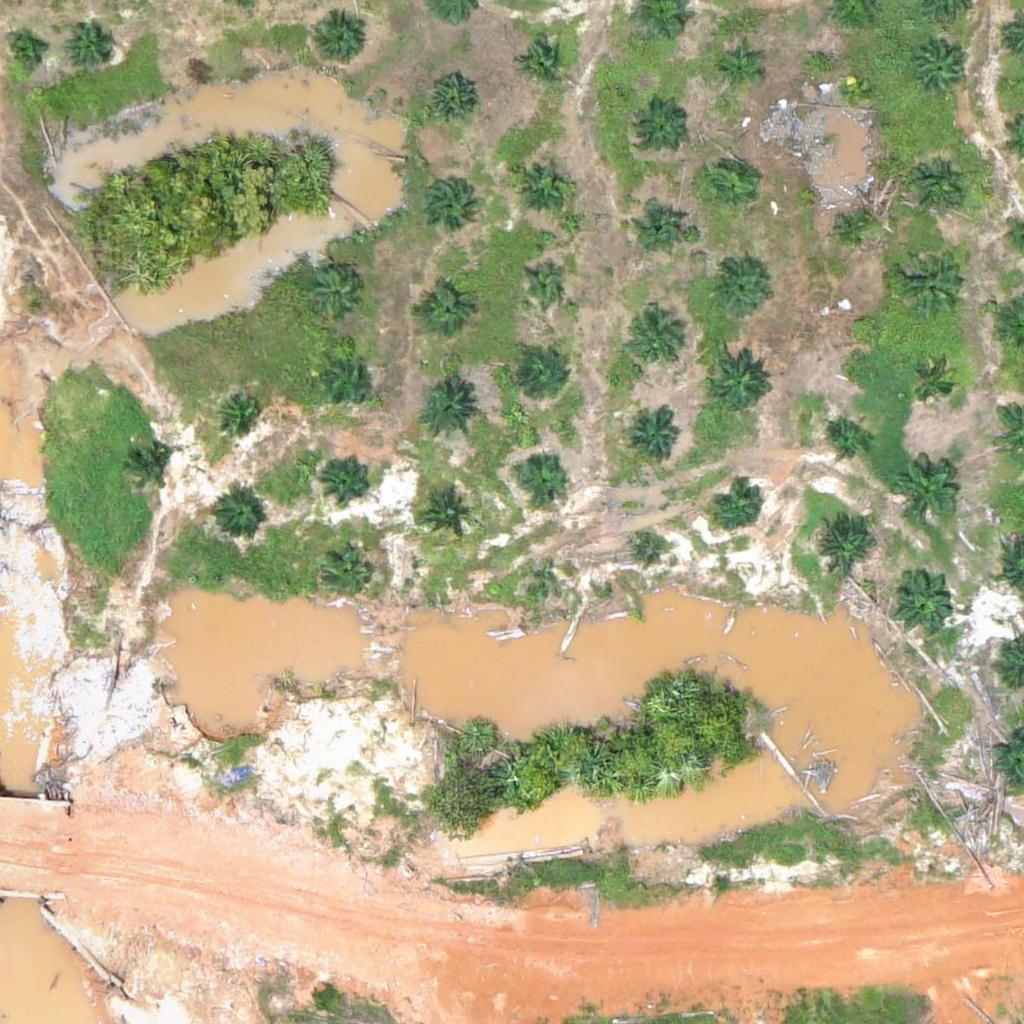Kelapa_Sawit: (895, 238, 970, 314), (892, 458, 955, 521), (417, 381, 480, 444), (888, 567, 951, 630), (708, 347, 770, 410), (626, 310, 688, 373), (906, 155, 968, 218), (705, 257, 767, 320), (308, 10, 370, 73), (512, 152, 574, 215), (811, 512, 873, 575), (911, 42, 973, 104), (515, 448, 565, 499), (519, 349, 569, 400), (417, 286, 467, 337), (311, 271, 361, 322), (322, 354, 372, 405), (322, 452, 372, 503), (422, 491, 472, 542), (425, 73, 475, 124), (516, 37, 566, 88), (630, 414, 680, 464), (711, 481, 761, 531), (637, 198, 687, 248), (636, 102, 686, 152), (703, 158, 753, 208), (422, 176, 472, 226), (213, 492, 263, 542), (907, 361, 957, 411), (822, 418, 872, 468), (830, 201, 880, 251), (324, 553, 374, 603), (216, 388, 266, 438), (125, 444, 175, 494), (66, 22, 116, 72), (718, 48, 756, 86), (4, 32, 42, 70), (525, 265, 562, 303), (636, 534, 661, 559), (839, 76, 864, 101), (846, 311, 871, 336), (541, 568, 566, 593)
